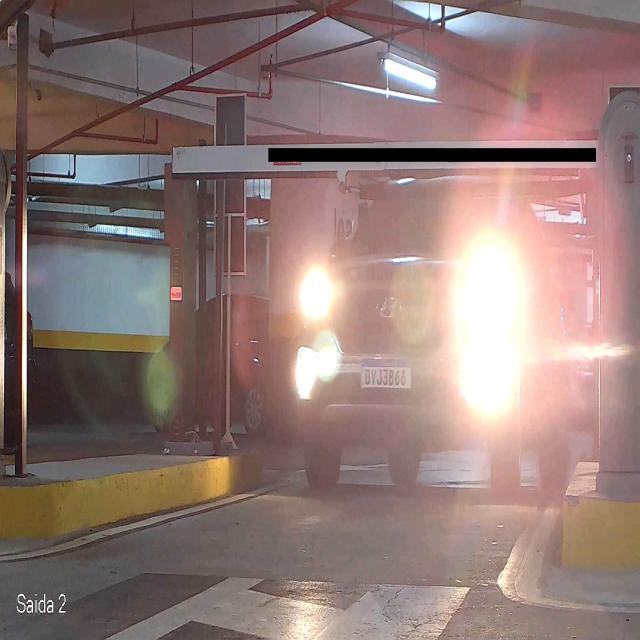mercosul_plate: (359, 358, 412, 390)
